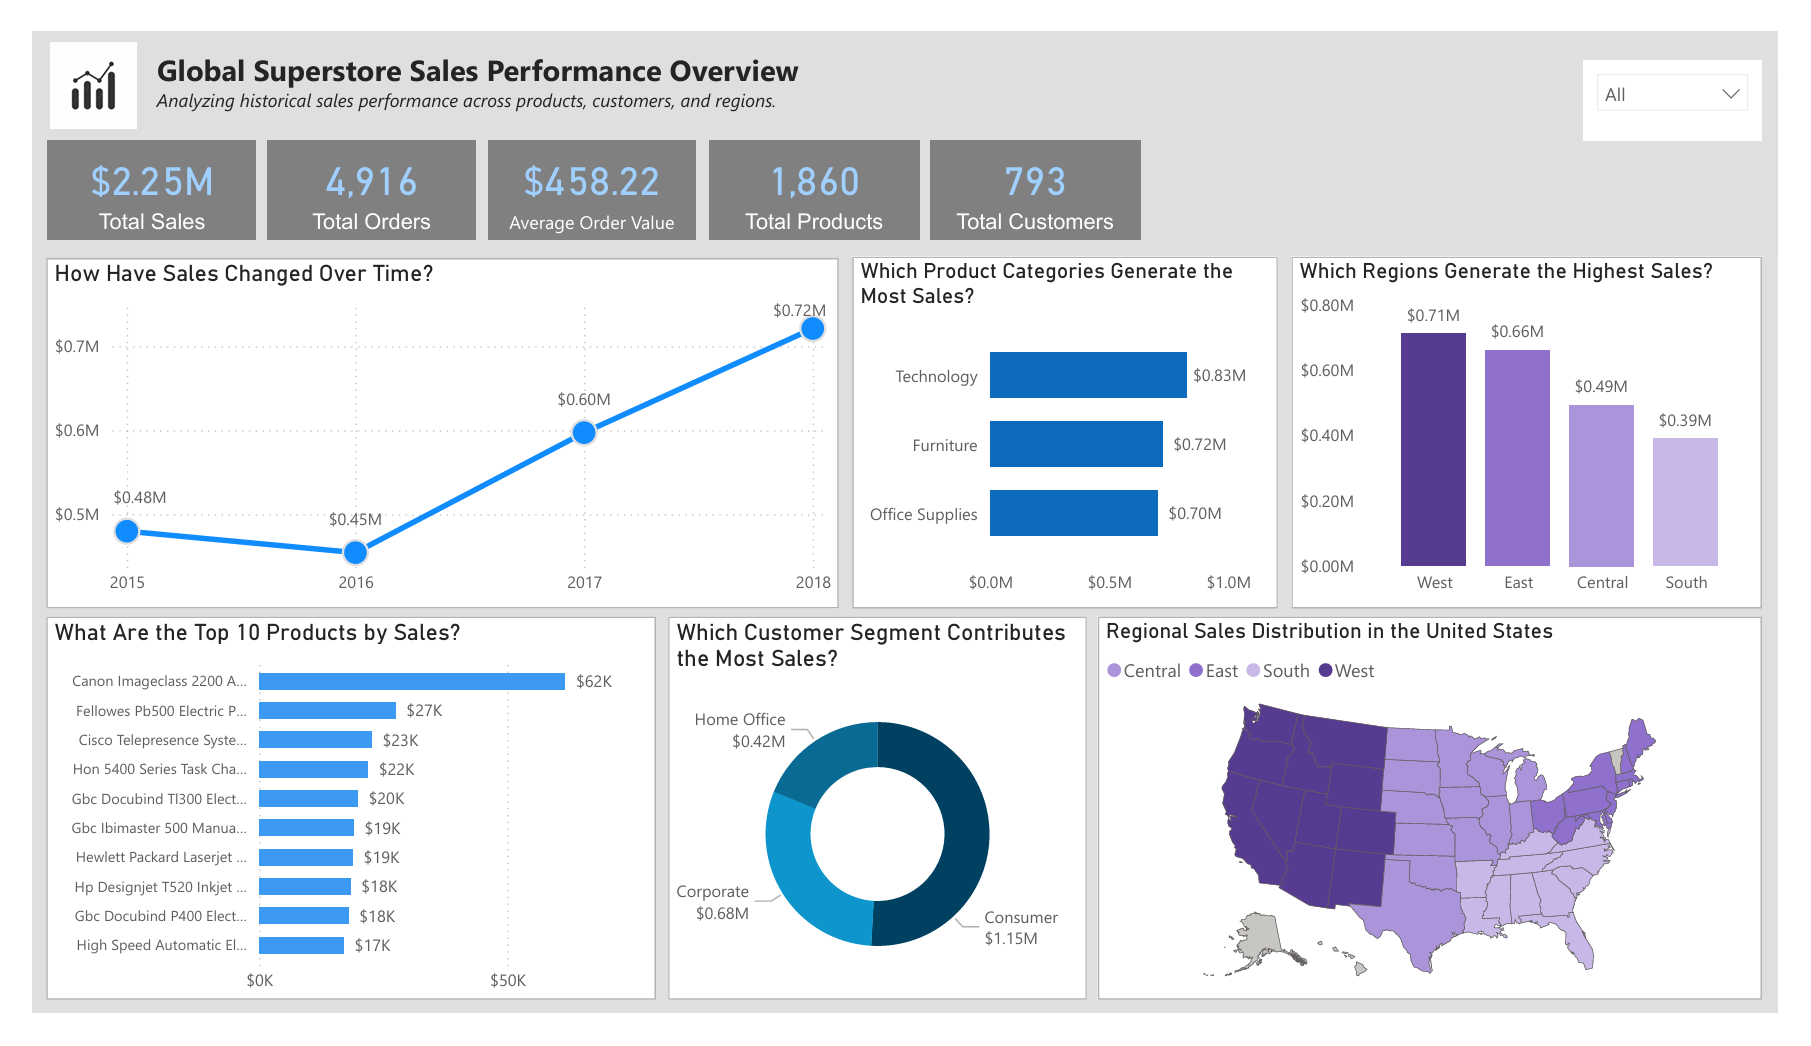

The dashboard page shown, as its layout file describes it:
{"tool":"powerbi","page":{"name":"📊 Dashboard 1 — Sales Performance Overview","canvas":[1280,720],"ordinal":0},"visuals":[{"type":"textbox","box":[85.7,8.1,715.6,62.5],"z":0},{"type":"card","fields":{"Values":["superstore_clean.Total Sales"]},"box":[11.1,79.6,153.2,73.6],"z":1000},{"type":"card","fields":{"Values":["superstore_clean.Total Orders"]},"box":[171.8,80,153.6,72.7],"z":2000},{"type":"card","fields":{"Values":["superstore_clean.Average Order Value"]},"box":[333.6,80,152.7,72.7],"z":3000},{"type":"card","fields":{"Values":["Count(superstore_clean.product_id)"]},"box":[496.4,80,153.6,72.7],"z":4000},{"type":"card","fields":{"Values":["Count(superstore_clean.customer_id)"]},"box":[658.2,80,153.6,72.7],"z":5000},{"type":"shapeMap","title":"Regional Sales Distribution in the United States","fields":{"Category":["superstore_clean.state"],"Series":["superstore_clean.region"],"Value":["Sum(superstore_clean.sales)"]},"box":[780.9,429.1,487.3,280.9],"z":6000},{"type":"donutChart","title":"Which Customer Segment Contributes the Most Sales?","fields":{"Category":["superstore_clean.segment"],"Y":["Sum(superstore_clean.sales)"]},"box":[466.4,429.1,306.4,280.9],"z":7000},{"type":"clusteredColumnChart","title":"Which Regions Generate the Highest Sales?","fields":{"Category":["superstore_clean.region"],"Y":["Sum(superstore_clean.sales)"]},"box":[922.7,165.5,345.5,257.3],"z":8000},{"type":"clusteredBarChart","title":"Which Product Categories Generate the Most Sales?\n","fields":{"Category":["superstore_clean.category"],"Y":["Sum(superstore_clean.sales)"]},"box":[600.9,165.5,311.8,257.3],"z":9000},{"type":"clusteredBarChart","title":"What Are the Top 10 Products by Sales?\n","fields":{"Category":["superstore_clean.product_name"],"Y":["Sum(superstore_clean.sales)"]},"box":[10,429.1,447.3,280.9],"z":10000},{"type":"lineChart","title":"How Have Sales Changed Over Time?","fields":{"Category":["superstore_clean.order_year"],"Y":["Sum(superstore_clean.sales)"]},"box":[10,165.7,581.4,257.1],"z":11000},{"type":"slicer","fields":{"Values":["superstore_clean.order_year"]},"box":[1137.3,20.9,130.9,59.1],"z":12000},{"type":"image","box":[8.1,8.1,72.6,62.5],"z":12001}]}

Visuals, with their boxes in screenshot pixels (x1, y1, x2, y2), scaled from the page's 1280x720 canvas onto the 1811x1046 screenshot:
textbox: x1=121 y1=12 x2=1134 y2=103
card - superstore_clean.Total Sales: x1=16 y1=116 x2=232 y2=223
card - superstore_clean.Total Orders: x1=243 y1=116 x2=460 y2=222
card - superstore_clean.Average Order Value: x1=472 y1=116 x2=688 y2=222
card - Count(superstore_clean.product_id): x1=702 y1=116 x2=920 y2=222
card - Count(superstore_clean.customer_id): x1=931 y1=116 x2=1149 y2=222
"Regional Sales Distribution in the United States" shapeMap: x1=1105 y1=623 x2=1794 y2=1031
"Which Customer Segment Contributes the Most Sales?" donutChart: x1=660 y1=623 x2=1093 y2=1031
"Which Regions Generate the Highest Sales?" clusteredColumnChart: x1=1305 y1=240 x2=1794 y2=614
"Which Product Categories Generate the Most Sales?
" clusteredBarChart: x1=850 y1=240 x2=1291 y2=614
"What Are the Top 10 Products by Sales?
" clusteredBarChart: x1=14 y1=623 x2=647 y2=1031
"How Have Sales Changed Over Time?" lineChart: x1=14 y1=241 x2=837 y2=614
slicer - superstore_clean.order_year: x1=1609 y1=30 x2=1794 y2=116
image: x1=11 y1=12 x2=114 y2=103
